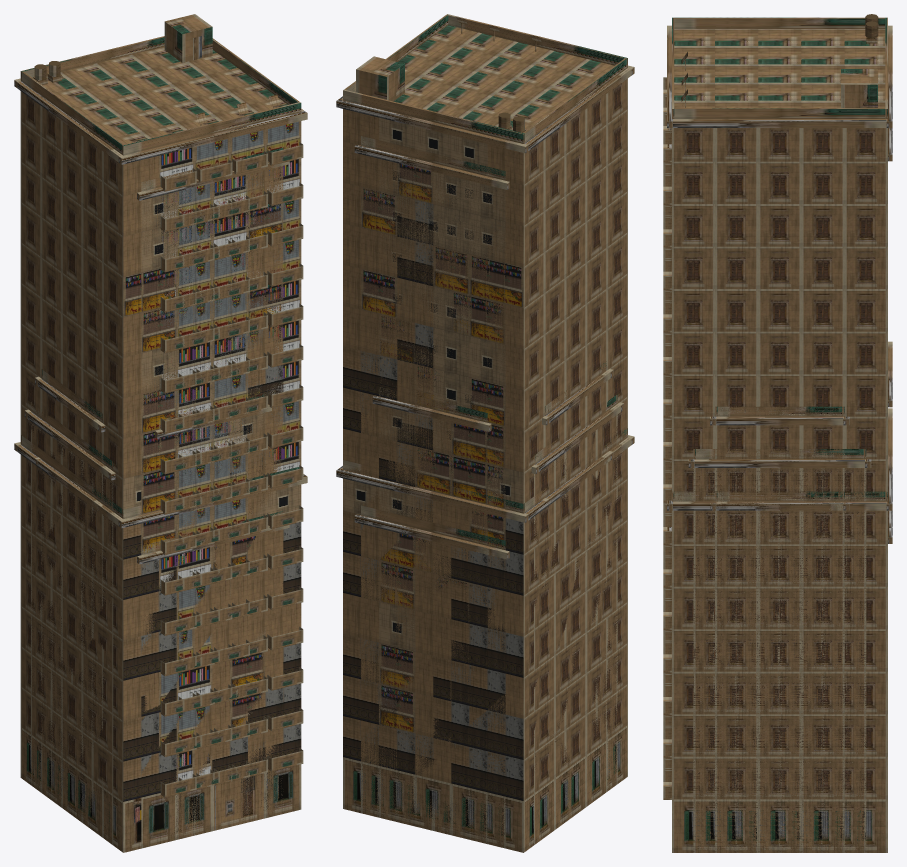
3 views of the same model, side by side, from view 1: azimuth 30°, elevation 25°; view 2: azimuth 150°, elevation 25°; view 3: azimuth 270°, elevation 25° (orthographic). The views are drawn at different scales.
Visible parts, largest first — view 1: Khedivial_5x5_f16_v0, Khedivial_4x5_f15_v1, Khedivial_5x5_f7_v1, Khedivial_4x5_f6_v1, Khedivial_5x4_f8_v1, Khedivial_5x3_f7_v1, Khedivial_3x5_f6_v1, Khedivial_3x5_f9_v1, Khedivial_5x3_f9_v1; view 2: Khedivial_5x5_f16_v0, Khedivial_4x5_f15_v1, Khedivial_5x5_f7_v1, Khedivial_3x5_f6_v1, Khedivial_4x5_f6_v1, Khedivial_5x4_f8_v1, Khedivial_5x3_f7_v1, Khedivial_3x5_f9_v1, Khedivial_5x3_f9_v1; view 3: Khedivial_5x5_f16_v0, Khedivial_5x3_f7_v1, Khedivial_5x4_f8_v1, Khedivial_5x5_f7_v1, Khedivial_5x3_f9_v1, Khedivial_4x5_f15_v1.
Part boxes in pixels (x1,y1,x2,y2): Khedivial_5x5_f16_v0: [14, 14, 307, 771]; Khedivial_4x5_f15_v1: [137, 148, 289, 784]; Khedivial_5x5_f7_v1: [14, 435, 307, 852]; Khedivial_4x5_f6_v1: [137, 511, 289, 848]; Khedivial_5x4_f8_v1: [24, 402, 115, 844]; Khedivial_5x3_f7_v1: [35, 457, 102, 837]; Khedivial_3x5_f6_v1: [155, 526, 271, 839]; Khedivial_3x5_f9_v1: [155, 394, 271, 787]; Khedivial_5x3_f9_v1: [35, 369, 105, 503]; Khedivial_5x5_f16_v0: [336, 14, 634, 512]; Khedivial_4x5_f15_v1: [354, 136, 509, 549]; Khedivial_5x5_f7_v1: [336, 428, 634, 852]; Khedivial_3x5_f6_v1: [372, 511, 489, 843]; Khedivial_4x5_f6_v1: [354, 505, 509, 848]; Khedivial_5x4_f8_v1: [531, 394, 623, 844]; Khedivial_5x3_f7_v1: [542, 444, 613, 820]; Khedivial_3x5_f9_v1: [372, 387, 491, 545]; Khedivial_5x3_f9_v1: [542, 361, 613, 483]; Khedivial_5x5_f16_v0: [663, 14, 892, 799]; Khedivial_5x3_f7_v1: [710, 491, 849, 852]; Khedivial_5x4_f8_v1: [688, 449, 871, 852]; Khedivial_5x5_f7_v1: [663, 408, 892, 852]; Khedivial_5x3_f9_v1: [710, 406, 849, 501]; Khedivial_4x5_f15_v1: [663, 128, 892, 767].
Size of the model in its own units: 18.3 by 68.3 by 18.6.
1 material, 1 textured.
